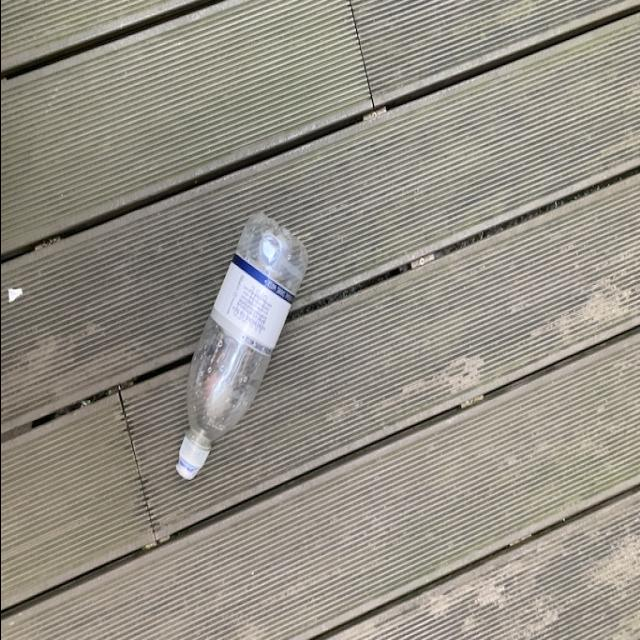PET: (172, 208, 308, 482)
